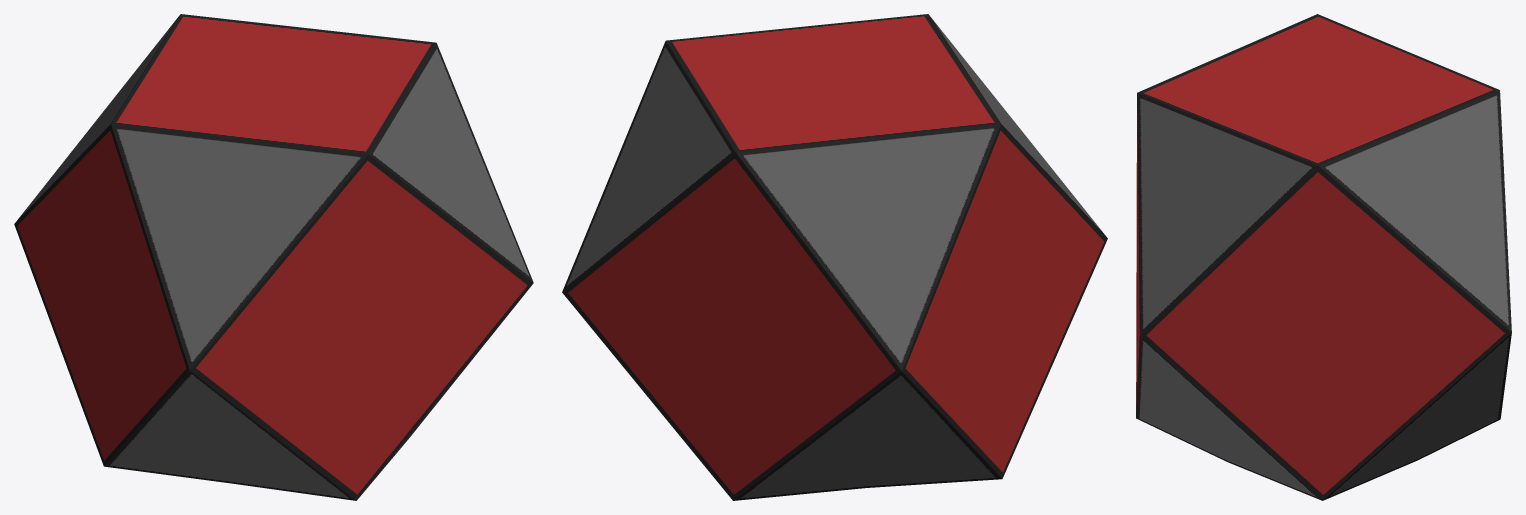
The model's file is holocron_texturizado.obj.
3 views of the same model, side by side, from view 1: azimuth 30°, elevation 25°; view 2: azimuth 150°, elevation 25°; view 3: azimuth 270°, elevation 25° (orthographic). The views are drawn at different scales.
Visible parts, largest first — view 1: holocron_uv; view 2: holocron_uv; view 3: holocron_uv.
Part boxes in pixels (x1=…): holocron_uv: x1=14, y1=14, x2=533, y2=500; holocron_uv: x1=562, y1=14, x2=1107, y2=500; holocron_uv: x1=1136, y1=14, x2=1511, y2=500.
Bounding box in the file's own units: 5.28 × 5.05 × 5.14.
1 material, 1 textured.
